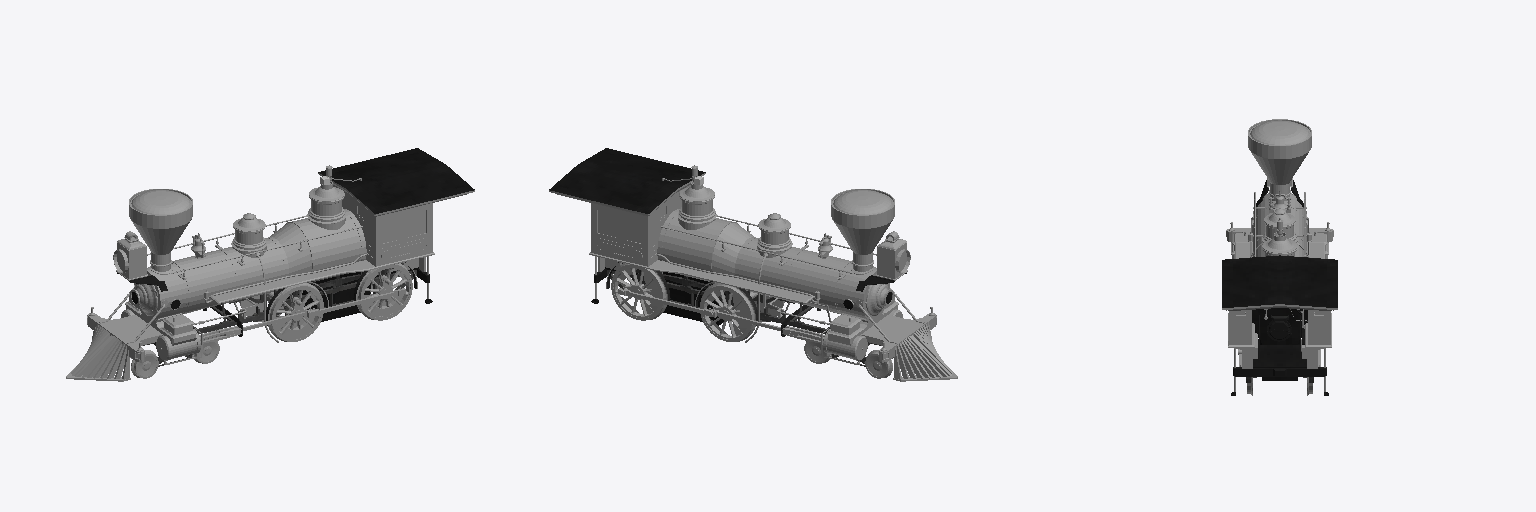
3 renders of one model, left to right at view 1: azimuth 30°, elevation 25°; view 2: azimuth 150°, elevation 25°; view 3: azimuth 270°, elevation 25°, orthographic.
Visible parts, largest first — view 1: CAB_Cube.003, SHELL_Cylinder.005, FRAME_Cube, SMOKEBOX_Cylinder, WHEEL_DRIVER_1_Cube.019, WHEEL_DRIVER_2_Cube.002, STEAM_CHEST_Cylinder.008, FIREBOX_Cylinder.004, BOGEY_FRONT_WHEEL_1_Cylinder.023; view 2: CAB_Cube.003, SHELL_Cylinder.005, SMOKEBOX_Cylinder, FRAME_Cube, WHEEL_DRIVER_1_Cube.019, WHEEL_DRIVER_2_Cube.002, STEAM_CHEST_Cylinder.008, FIREBOX_Cylinder.004, BOGEY_FRONT_WHEEL_1_Cylinder.023; view 3: CAB_Cube.003, SMOKEBOX_Cylinder, SHELL_Cylinder.005, FIREBOX_Cylinder.004, FRAME_Cube.
Boxes of the visible parts, x1,y1,x2,y2 form: CAB_Cube.003: [209, 148, 474, 303]; SHELL_Cylinder.005: [147, 181, 366, 342]; FRAME_Cube: [66, 262, 429, 381]; SMOKEBOX_Cylinder: [113, 189, 192, 320]; WHEEL_DRIVER_1_Cube.019: [239, 283, 323, 341]; WHEEL_DRIVER_2_Cube.002: [357, 263, 412, 320]; STEAM_CHEST_Cylinder.008: [121, 294, 200, 364]; FIREBOX_Cylinder.004: [287, 272, 370, 321]; BOGEY_FRONT_WHEEL_1_Cylinder.023: [130, 350, 158, 378]; CAB_Cube.003: [549, 148, 814, 303]; SHELL_Cylinder.005: [657, 181, 876, 342]; SMOKEBOX_Cylinder: [831, 189, 910, 320]; FRAME_Cube: [594, 262, 957, 381]; WHEEL_DRIVER_1_Cube.019: [700, 283, 784, 341]; WHEEL_DRIVER_2_Cube.002: [611, 263, 666, 320]; STEAM_CHEST_Cylinder.008: [823, 294, 902, 364]; FIREBOX_Cylinder.004: [663, 272, 725, 325]; BOGEY_FRONT_WHEEL_1_Cylinder.023: [865, 350, 893, 378]; CAB_Cube.003: [1222, 243, 1337, 395]; SMOKEBOX_Cylinder: [1248, 119, 1311, 223]; SHELL_Cylinder.005: [1250, 192, 1309, 257]; FIREBOX_Cylinder.004: [1252, 308, 1307, 380]; FRAME_Cube: [1226, 214, 1333, 382].
Size of the model in its own units: 10.63 by 4.34 by 2.79.
Materials: 11 (1 with a texture image).